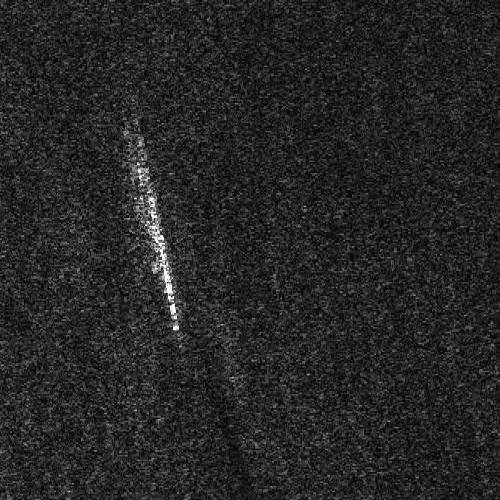ship: (138, 166, 179, 333)
